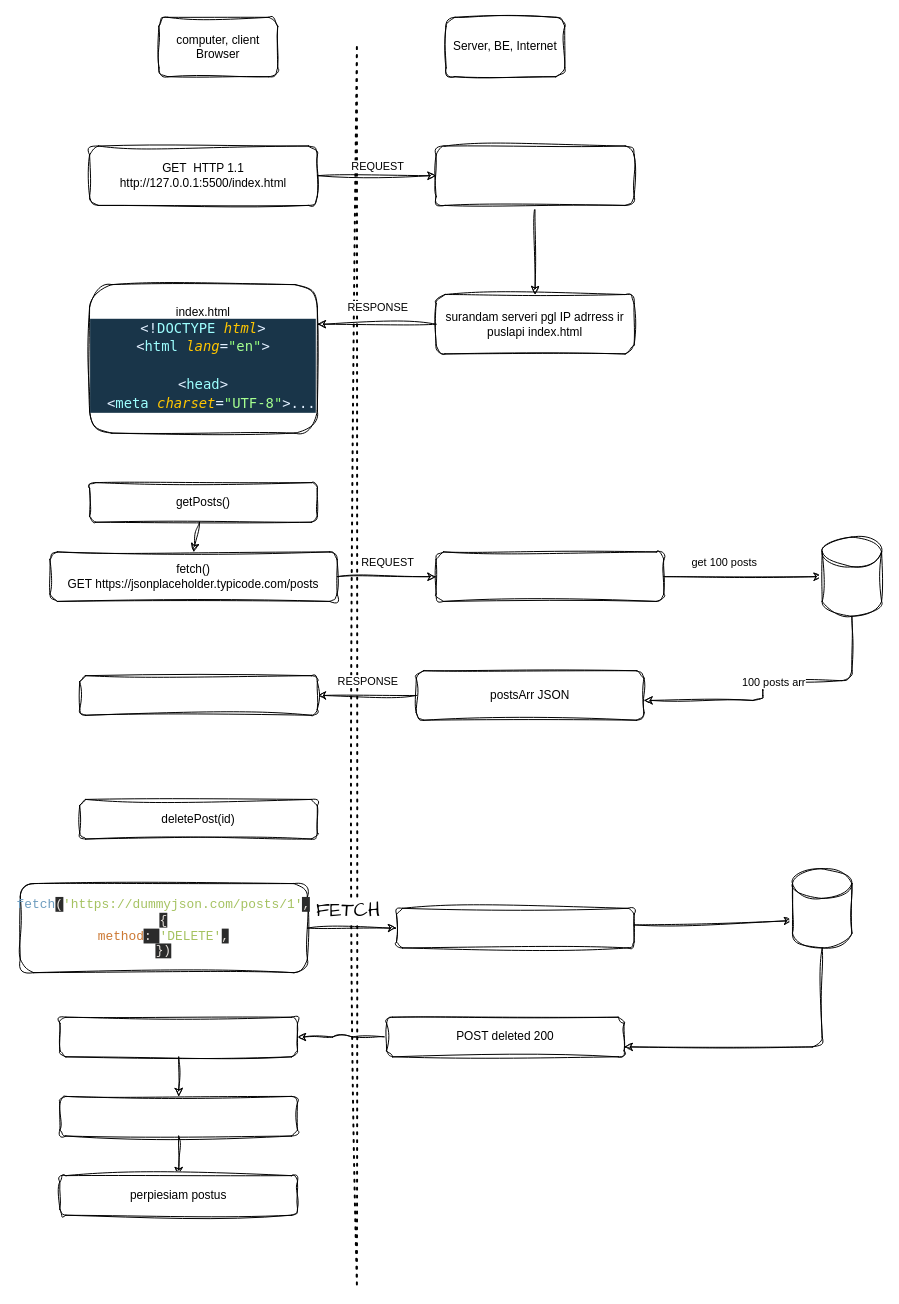
Some shapes in this 899 by 1304 pixel diagram are drawn without their labels. Here are the shapes that lost their labels. From the top down, the centre of each, then its label:
(x=534, y=175): DNS server www.manopsl.lt => pavadinima i IP Addres (127.0.0.1)
(x=549, y=576): posts
(x=198, y=695): .then(dataInJs => { console.log(dataInJs)})
(x=515, y=927): DELETE post 1
(x=178, y=1036): resp === 200
(x=178, y=1115): localiai istrinam posta is musu masyvo
